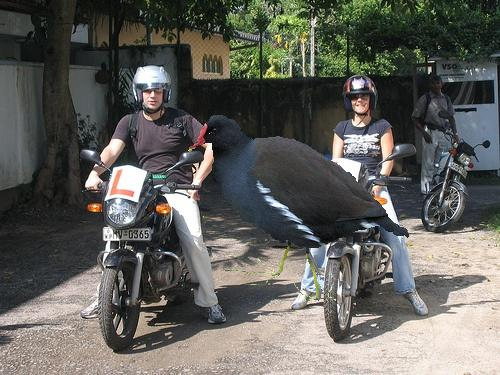tampered: (189, 116, 409, 301)
